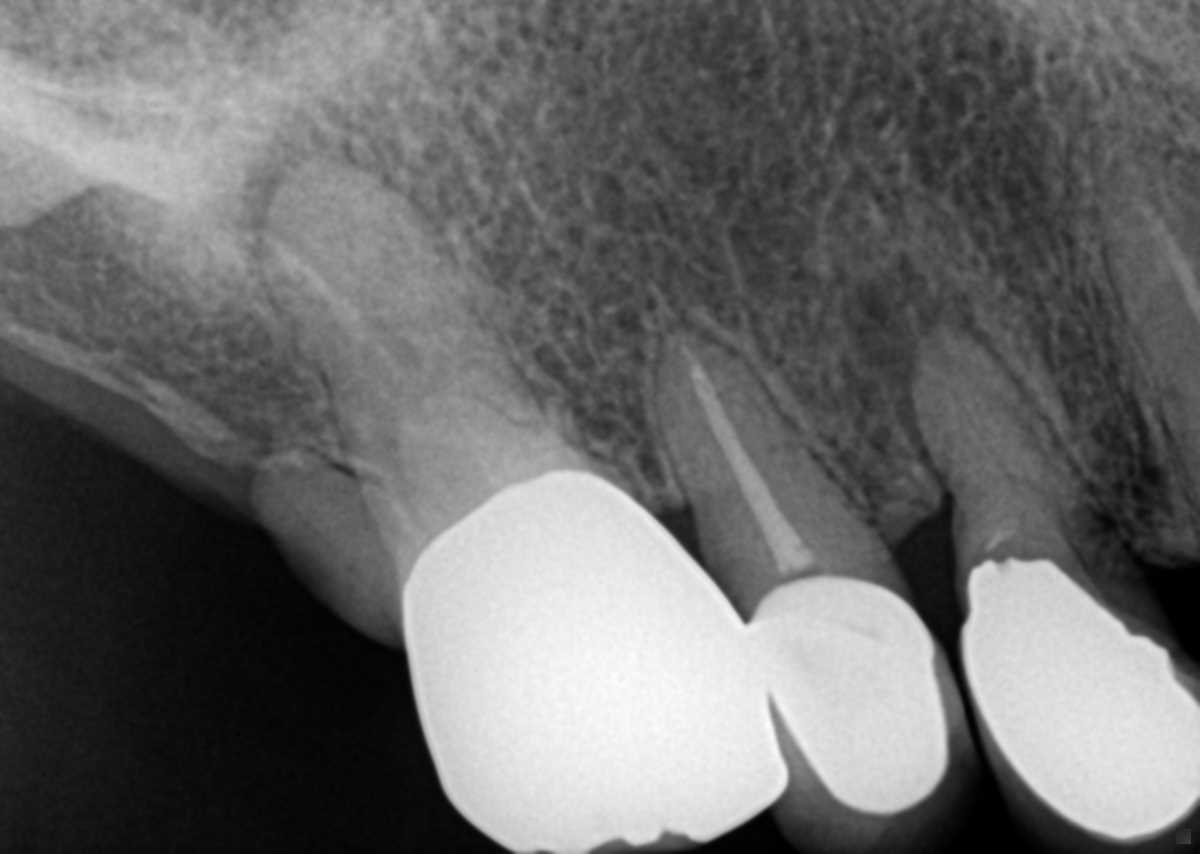Apical Lesion: (228, 79, 443, 263), (846, 259, 967, 393)
Distal Root: (253, 443, 439, 638)
Main Root: (651, 330, 888, 601), (1083, 143, 1200, 502), (917, 324, 1106, 528)
Mesial Root: (394, 394, 568, 533)
Palatal Root: (263, 165, 553, 579)
Root Canal Filling: (682, 340, 816, 575), (1131, 196, 1197, 306)
